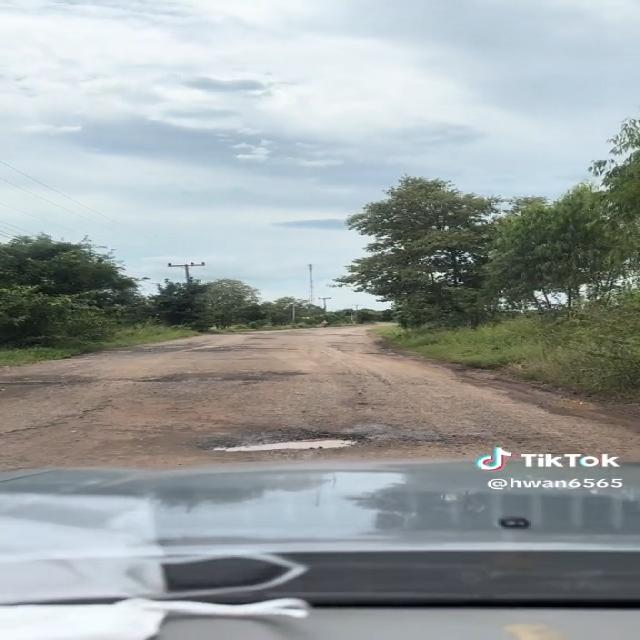Poth-hole: (33, 402, 140, 454)
